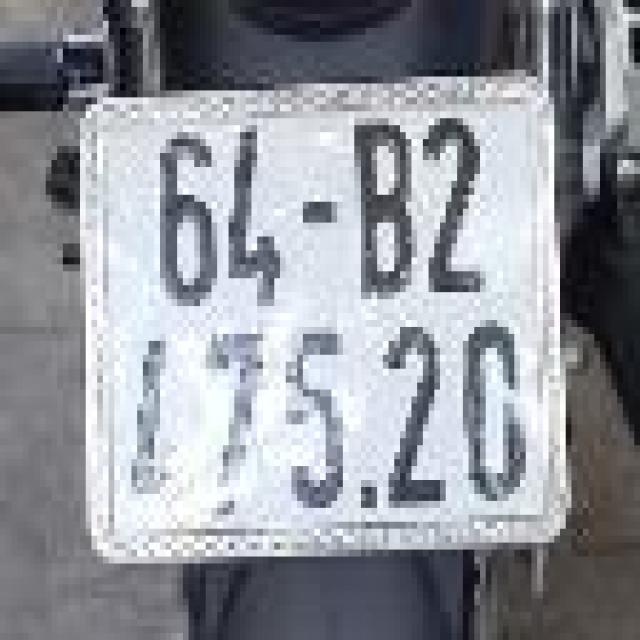0: (452, 320, 532, 508)
2: (423, 101, 486, 302), (383, 324, 446, 512)
4: (128, 327, 192, 536), (220, 122, 289, 310)
5: (277, 320, 357, 515)
6: (137, 118, 223, 313)
7: (203, 324, 266, 539)
B: (343, 108, 417, 302)
